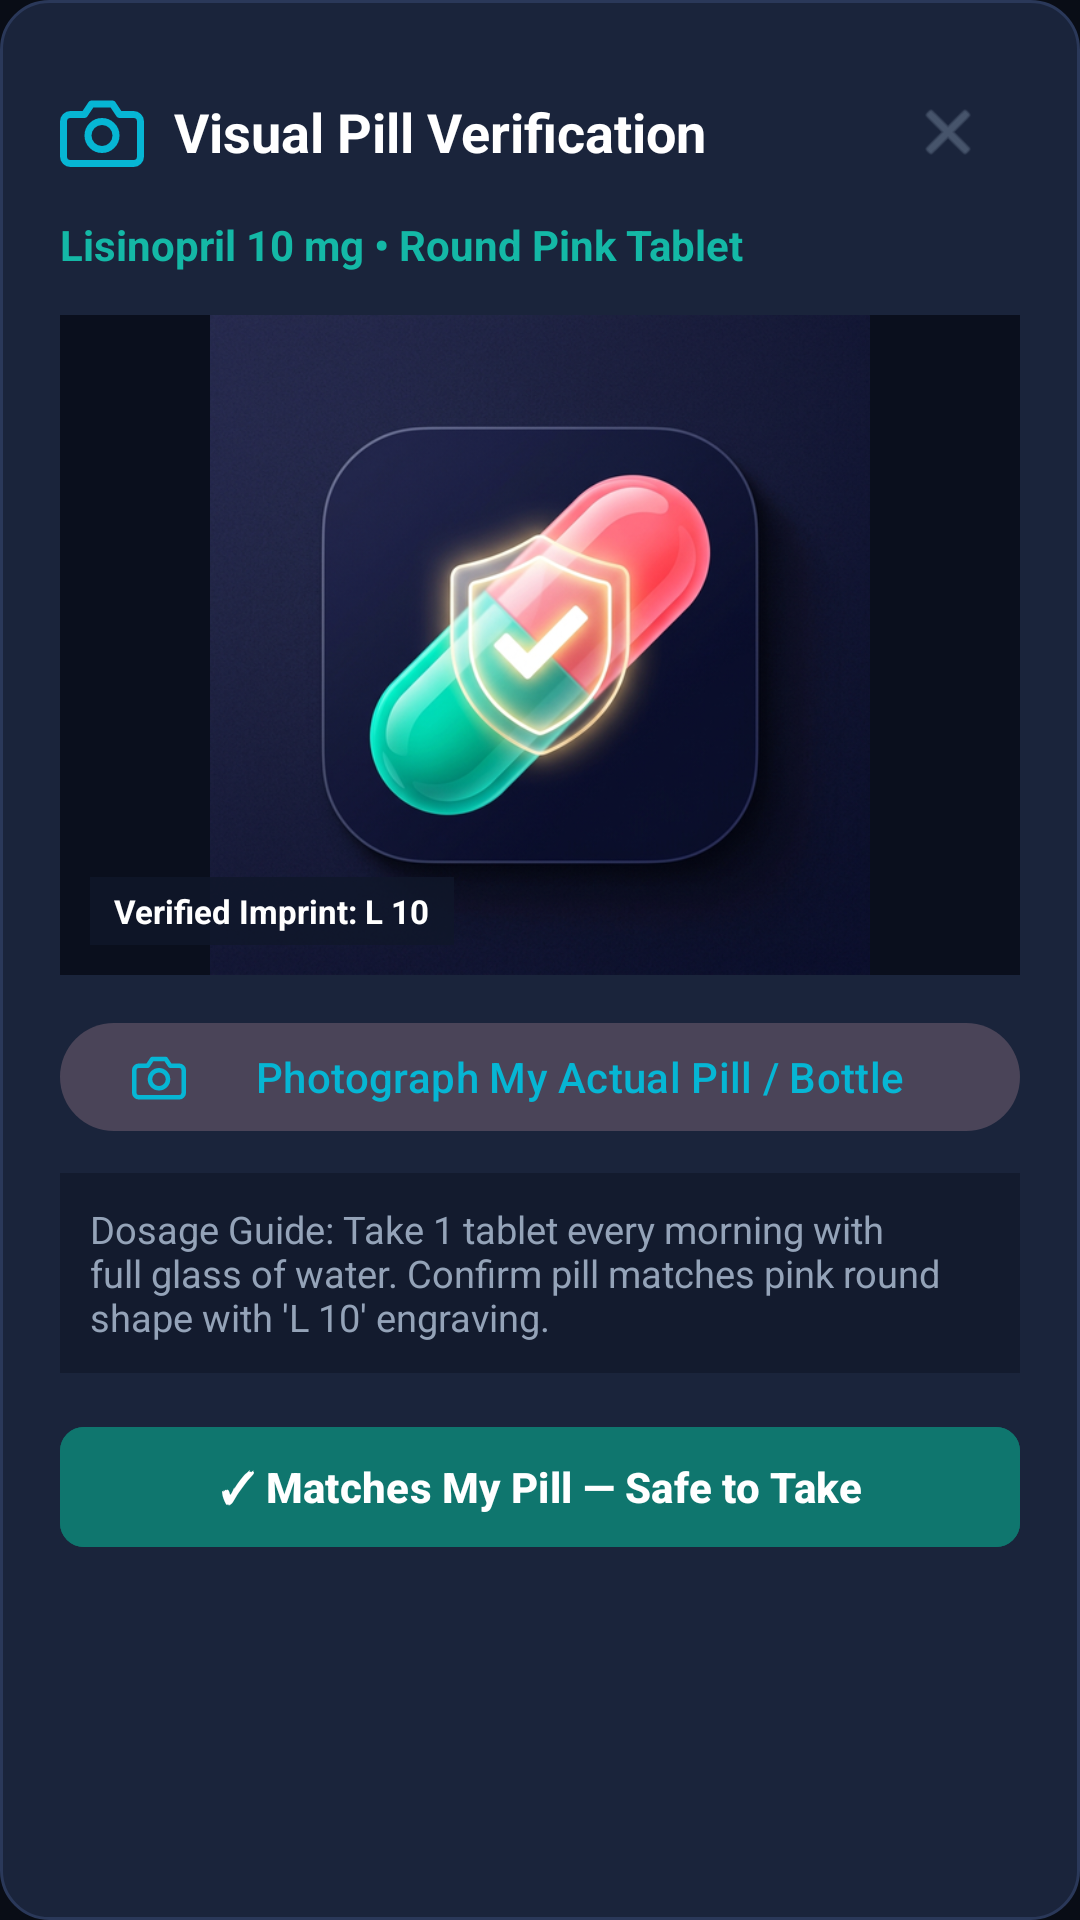

Icons on this 1080*1920 Android screen, each with the point to tap as [x,y]:
camera: [102,133]
Close Pill Verification: [948,132]
